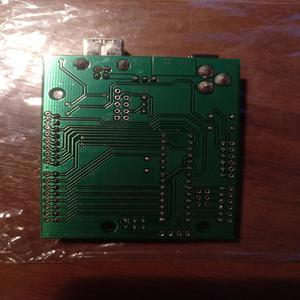duino: (36, 37, 249, 250)
